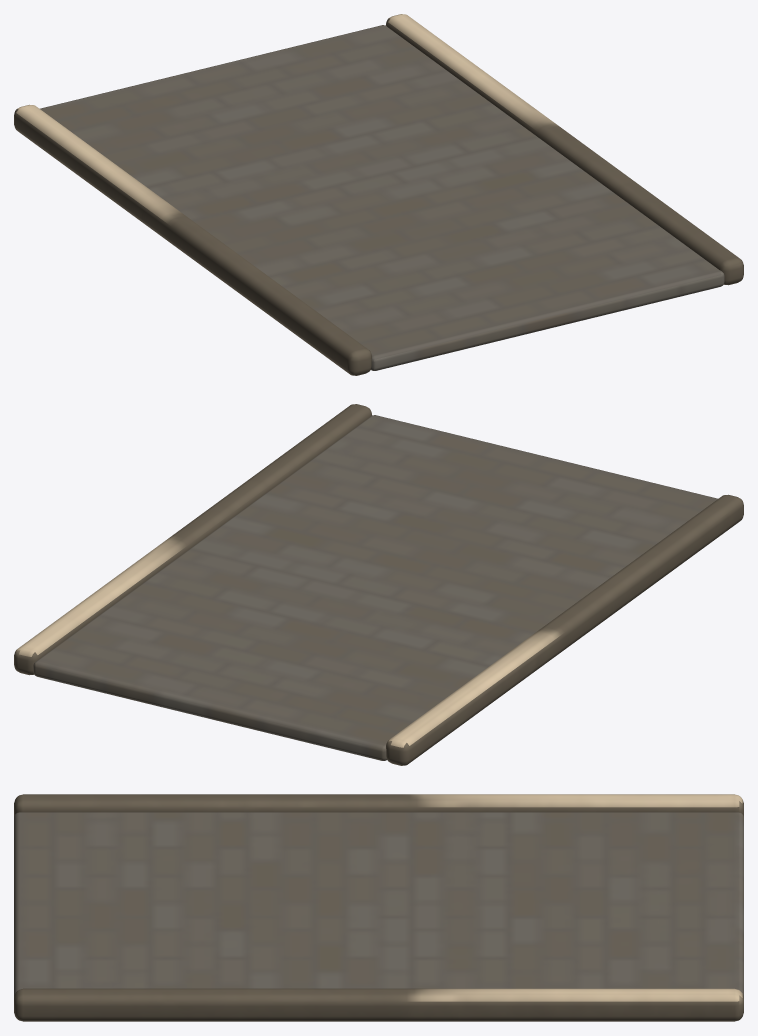
The model's file is PathSegment.fbx.
3 views of the same model, one above another, from view 1: azimuth 30°, elevation 25°; view 2: azimuth 150°, elevation 25°; view 3: azimuth 270°, elevation 25° (orthographic). The views are drawn at different scales.
Parts seen in each view (by area): view 1: PathSegment_Body; view 2: PathSegment_Body; view 3: PathSegment_Body.
Boxes of the visible parts, left/top/right/bottom form: PathSegment_Body: left=14, top=14, right=743, bottom=375; PathSegment_Body: left=14, top=404, right=743, bottom=765; PathSegment_Body: left=14, top=794, right=743, bottom=1021.
Size of the model in its own units: 2.68 by 0.16 by 4.
